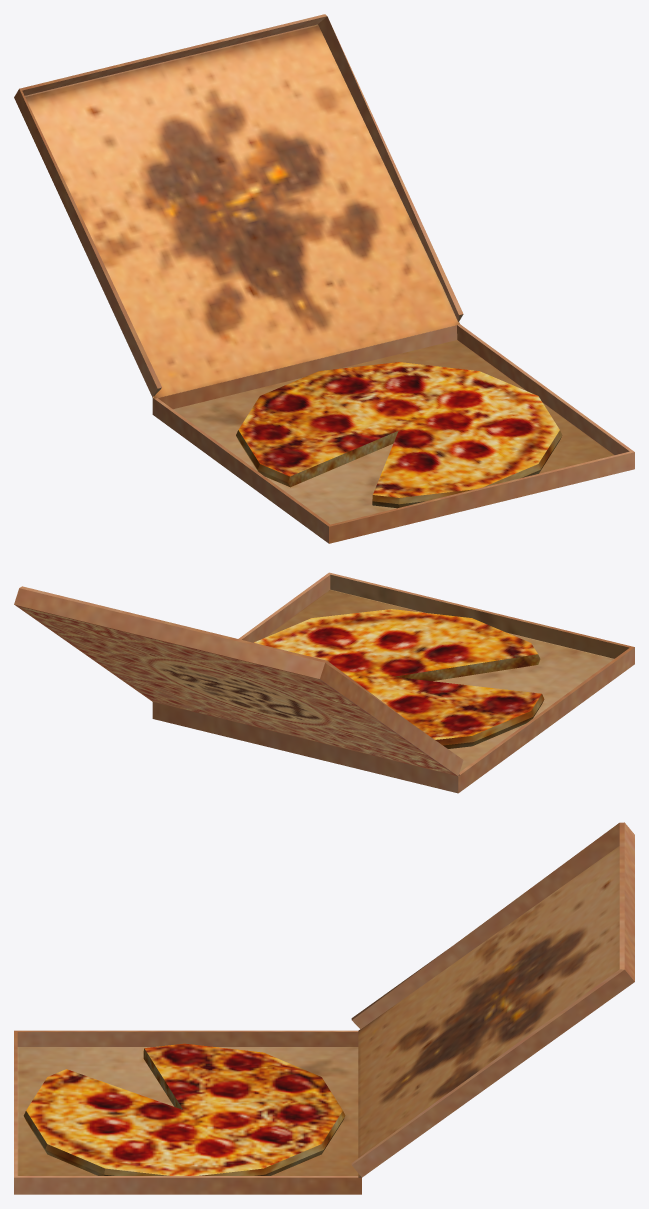
The model's file is pizza_one_slice_gone.obj.
3 views of the same model, one above another, from view 1: azimuth 30°, elevation 25°; view 2: azimuth 150°, elevation 25°; view 3: azimuth 270°, elevation 25° (orthographic).
Parts seen in each view (by area): view 1: pizza_one_slice_gone; view 2: pizza_one_slice_gone; view 3: pizza_one_slice_gone.
Part boxes in pixels (x1,y1,x2,y2): pizza_one_slice_gone: (14,14,634,543); pizza_one_slice_gone: (14,572,634,793); pizza_one_slice_gone: (14,822,634,1194).
Bounding box in the file's own units: 0.5276 × 0.3762 × 0.9413.
